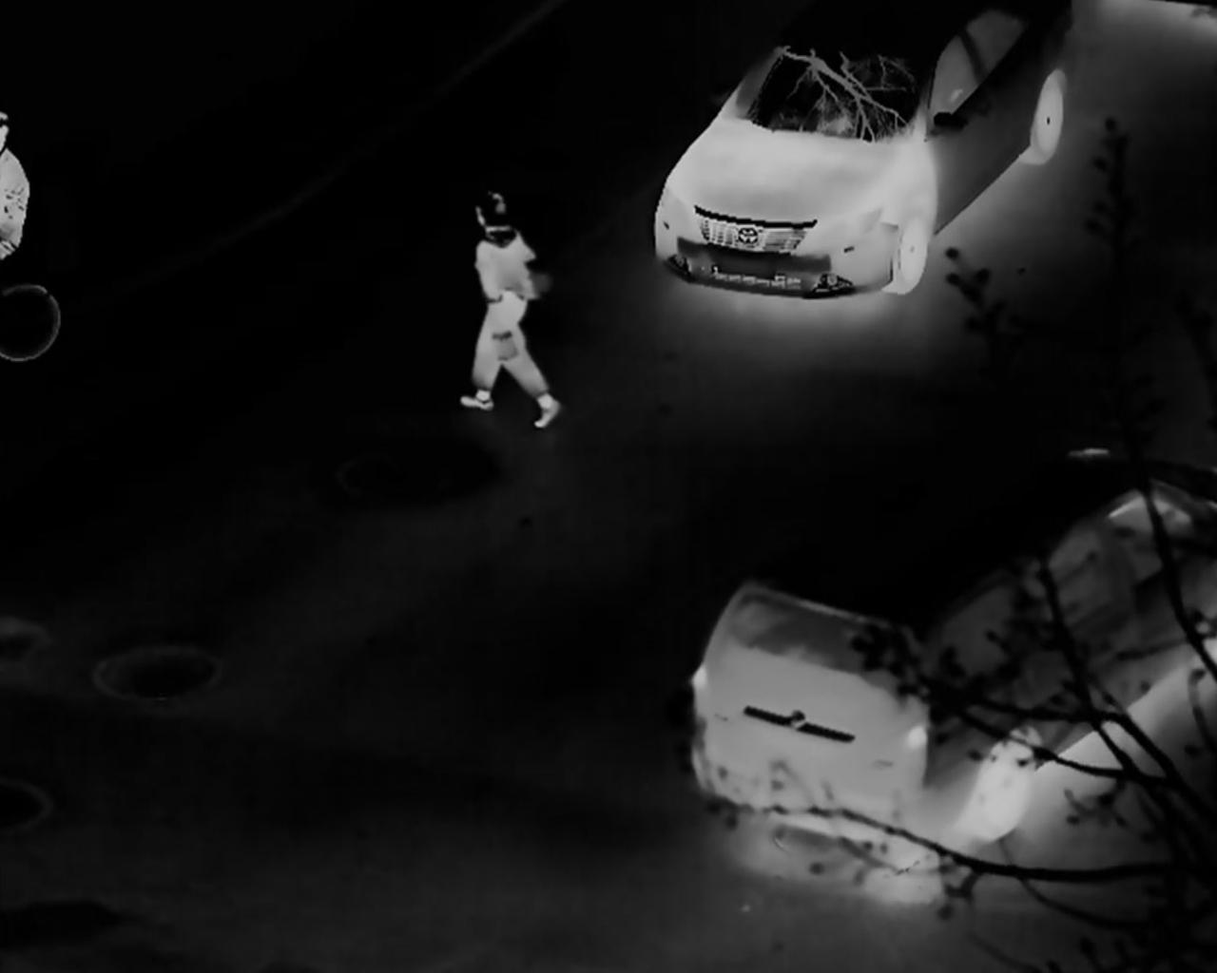person: (457, 190, 561, 429)
